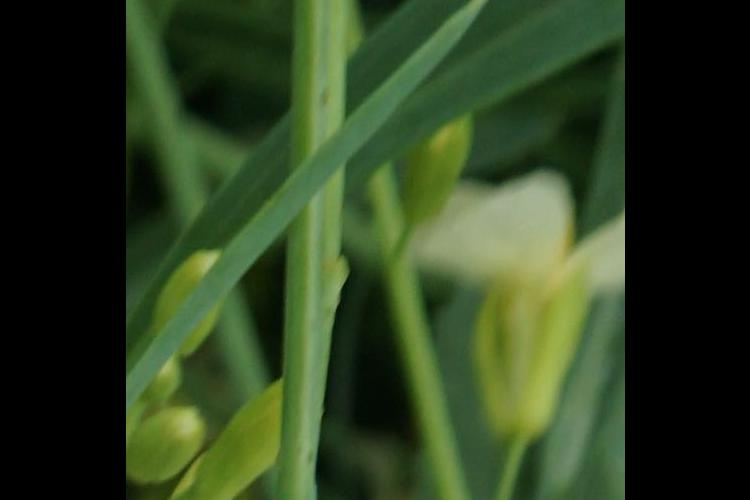bud: (197, 366, 320, 500), (397, 98, 479, 237), (149, 245, 242, 363), (129, 395, 214, 488), (151, 451, 254, 500)
